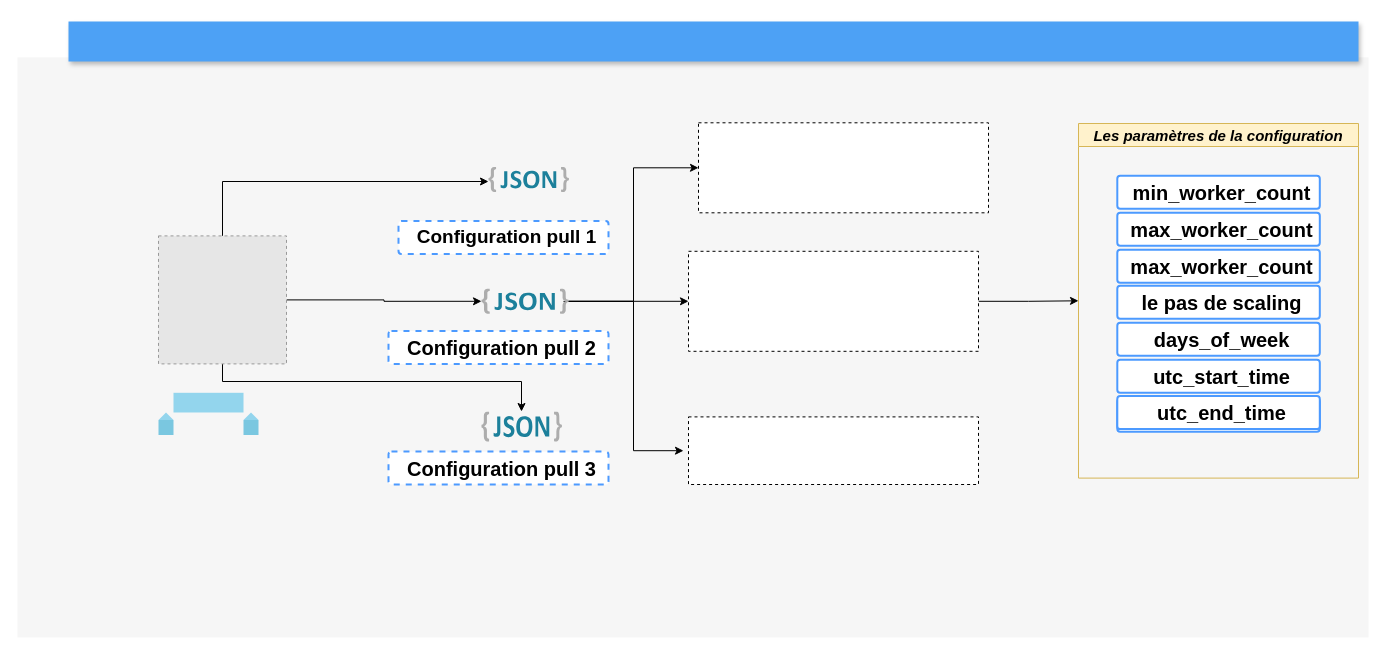
Image size: 1385x654. Some labels were removed from this diagram. Grey dashed boxes stand in for pictures. Each missing label, with the centre of its shape:
Architecture du fichier de configurations: [714,42]
Configuration Lundi-Vendredi 7H-19h: [843,167]
Configuration tout les jours 19h-7h: [833,300]
Configuration weekend: [833,450]
Fichier de configuration: [208,413]
